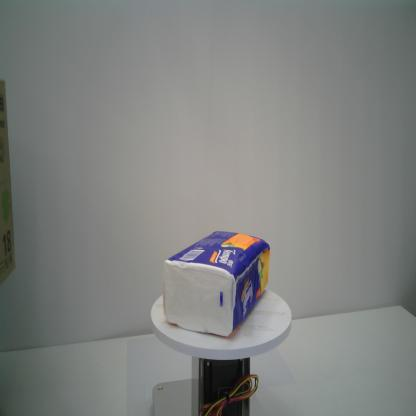Tissue: (161, 230, 270, 340)
